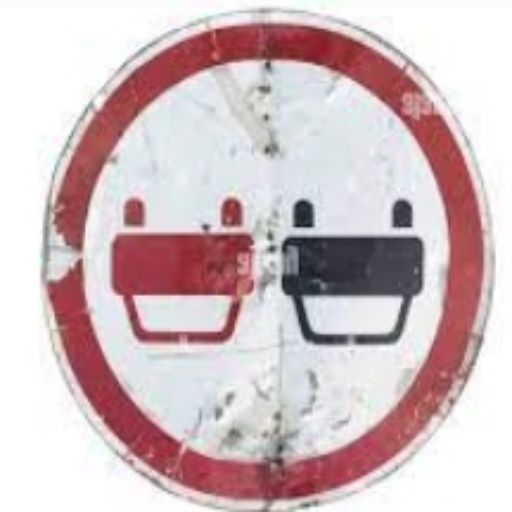No overtake: (34, 17, 474, 503)
